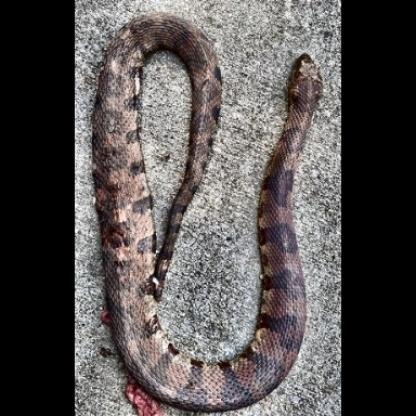Snake: (96, 15, 329, 408)
